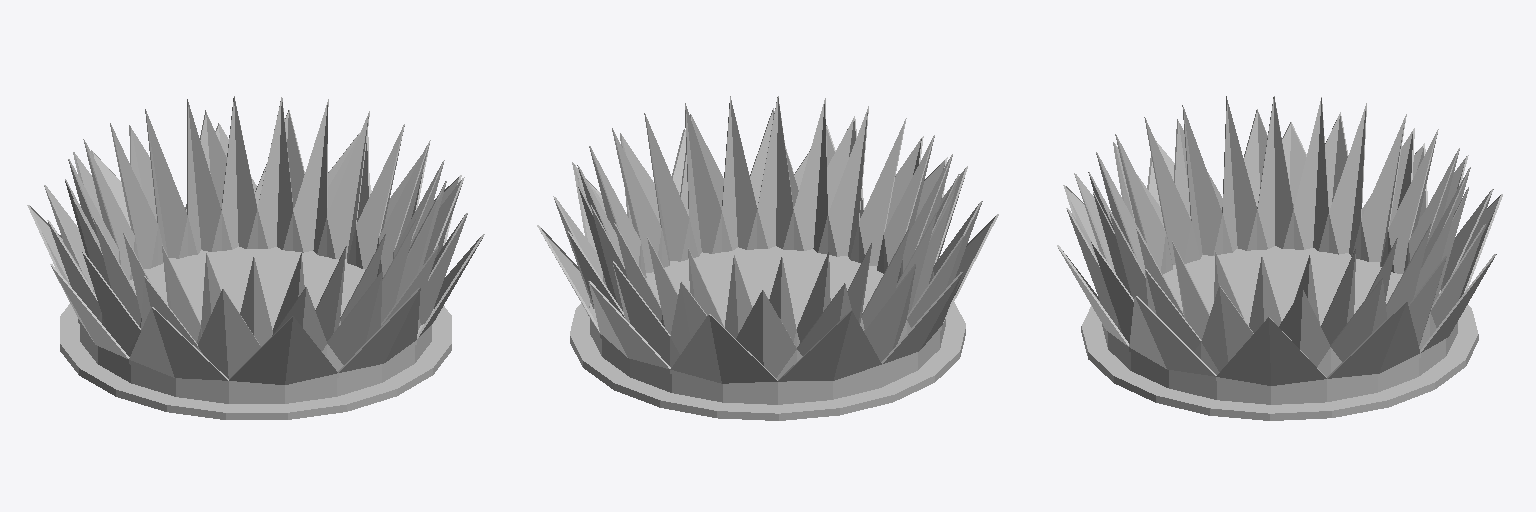
Rendered from portal_000041.obj.
The picture shows the model from 3 angles: view 1: azimuth 30°, elevation 25°; view 2: azimuth 150°, elevation 25°; view 3: azimuth 270°, elevation 25°; orthographic projection.
Visible parts, largest first — view 1: Cylinder.001, pCylinder1, Cylinder; view 2: Cylinder.001, pCylinder1, Cylinder; view 3: Cylinder.001, pCylinder1, Cylinder.
Boxes of the visible parts, x1=… form: Cylinder.001: x1=65, y1=96, x2=446, y2=346; pCylinder1: x1=27, y1=123, x2=484, y2=419; Cylinder: x1=44, y1=110, x2=467, y2=378; Cylinder.001: x1=577, y1=96, x2=959, y2=347; pCylinder1: x1=537, y1=125, x2=998, y2=420; Cylinder: x1=553, y1=108, x2=982, y2=379; Cylinder.001: x1=1088, y1=96, x2=1470, y2=344; pCylinder1: x1=1057, y1=122, x2=1502, y2=420; Cylinder: x1=1066, y1=109, x2=1493, y2=376.
Bounding box in the file's own units: 7.44 × 2.9 × 7.19.